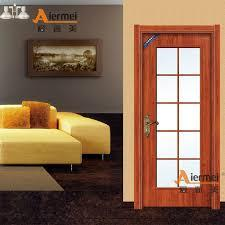door: (141, 33, 214, 208)
light: (0, 3, 31, 22)
sofa: (1, 101, 112, 173)
